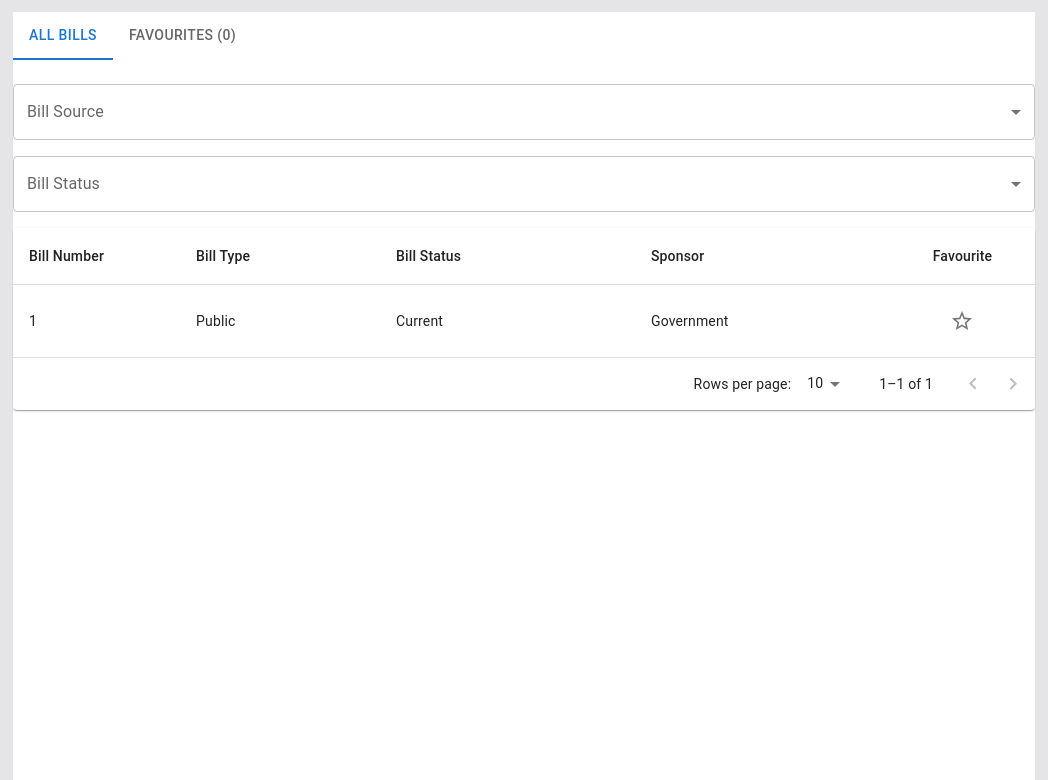
Scenario: BillsPage › removes bill from favourites tab after unfavouriting
Click the 1st button.
click(962, 321)  # box 942,301 -> 982,341
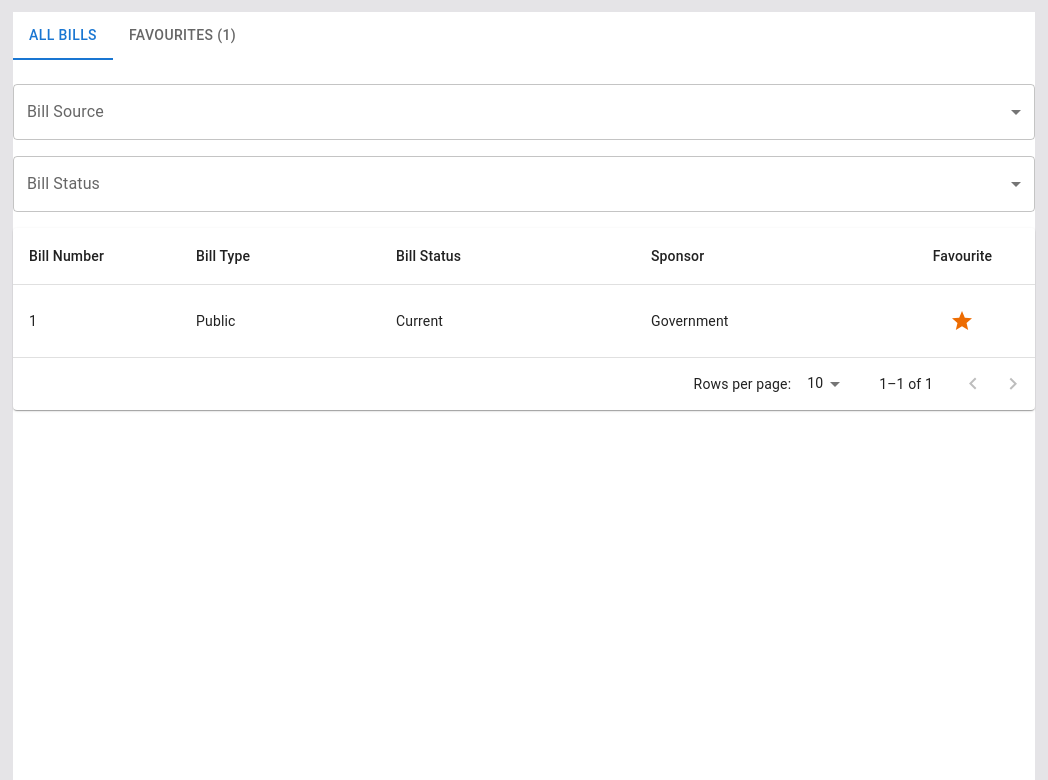
Click the 1st button.
click(962, 321)  # box 942,301 -> 982,341
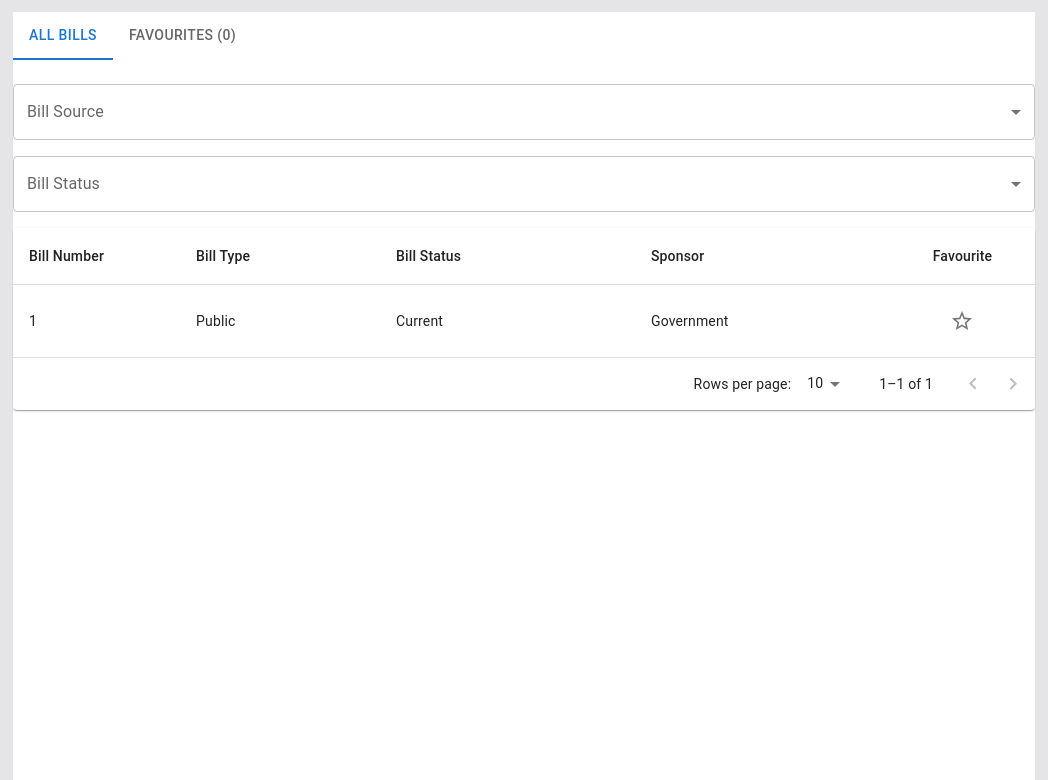
Click the tab "Favourites (0)".
click(183, 36)  # box 113,12 -> 252,60
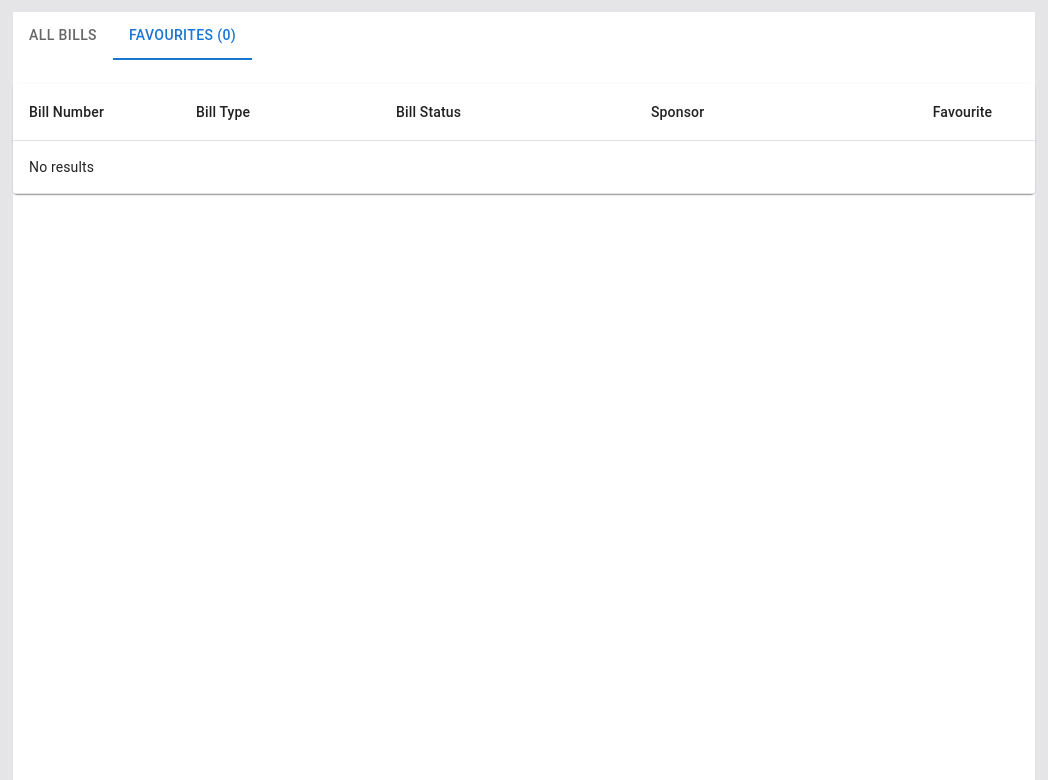
Check: the text "No results" is shown, box 13,141 -> 1035,194
